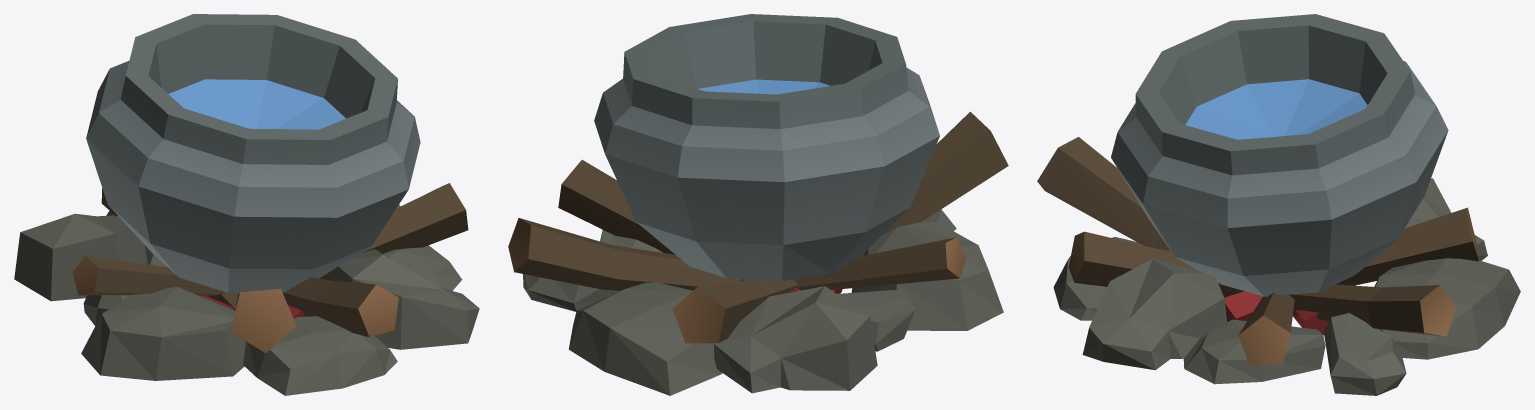
Rendered from ZLP_Build_F_29.FBX.
The picture shows the model from 3 angles, left to right: view 1: azimuth 30°, elevation 25°; view 2: azimuth 150°, elevation 25°; view 3: azimuth 270°, elevation 25°; orthographic projection. The views are drawn at different scales.
Visible parts, largest first — view 1: ZLP_Build_F_29; view 2: ZLP_Build_F_29; view 3: ZLP_Build_F_29.
Part boxes in pixels (x1=…): ZLP_Build_F_29: x1=14, y1=14, x2=479, y2=395; ZLP_Build_F_29: x1=508, y1=14, x2=1008, y2=395; ZLP_Build_F_29: x1=1037, y1=14, x2=1520, y2=395.
Bounding box in the file's own units: 101 × 62.63 × 109.
